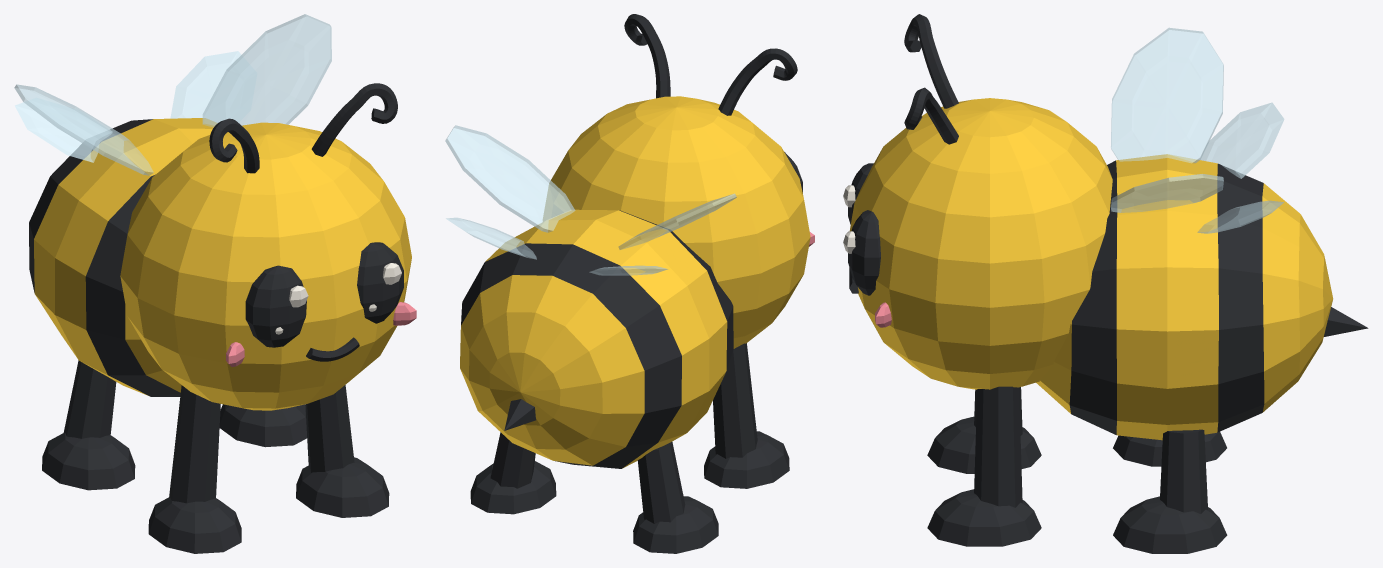
The model's file is chunky-bumblebee-pet.glb.
The picture shows the model from 3 angles, left to right: view 1: azimuth 30°, elevation 25°; view 2: azimuth 150°, elevation 25°; view 3: azimuth 270°, elevation 25°; orthographic projection. The views are drawn at different scales.
Visible parts, largest first — view 1: Head, Body, Wing_R, LegFront_L, WingBack_R, FootBack_L, FootFront_L, FootFront_R, Wing_L, Eye_L, WingBack_L, LegFront_R (+6 smaller); view 2: Body, Head, Wing_R, LegFront_L, FootBack_L, FootFront_L, LegBack_L, FootBack_R, LegBack_R, Antenna_L, Antenna_R, Wing_L (+3 smaller); view 3: Body, Head, Wing_L, LegFront_R, FootBack_R, FootFront_R, LegBack_R, WingBack_L, Wing_R, FootFront_L, Eye_R, Antenna_L (+4 smaller).
Part boxes in pixels (x1=…): Head: x1=120, y1=122, x2=411, y2=410; Body: x1=29, y1=118, x2=217, y2=396; Wing_R: x1=202, y1=14, x2=331, y2=127; LegFront_L: x1=169, y1=385, x2=220, y2=503; WingBack_R: x1=170, y1=51, x2=256, y2=122; FootBack_L: x1=42, y1=433, x2=135, y2=490; FootFront_L: x1=148, y1=497, x2=241, y2=553; FootFront_R: x1=296, y1=457, x2=389, y2=517; Wing_L: x1=14, y1=84, x2=153, y2=175; Eye_L: x1=245, y1=265, x2=306, y2=347; WingBack_L: x1=15, y1=98, x2=111, y2=162; LegFront_R: x1=305, y1=385, x2=354, y2=472; Body: x1=460, y1=209, x2=733, y2=468; Head: x1=543, y1=96, x2=810, y2=348; Wing_R: x1=445, y1=125, x2=575, y2=232; LegFront_L: x1=713, y1=343, x2=757, y2=458; FootBack_L: x1=633, y1=496, x2=718, y2=553; FootFront_L: x1=704, y1=431, x2=789, y2=488; LegBack_L: x1=637, y1=441, x2=685, y2=523; FootBack_R: x1=470, y1=461, x2=556, y2=514; LegBack_R: x1=490, y1=432, x2=535, y2=488; Antenna_L: x1=718, y1=48, x2=797, y2=115; Antenna_R: x1=624, y1=14, x2=670, y2=98; Wing_L: x1=618, y1=193, x2=736, y2=249; Body: x1=1036, y1=154, x2=1333, y2=440; Head: x1=849, y1=98, x2=1112, y2=389; Wing_L: x1=1111, y1=27, x2=1223, y2=163; LegFront_R: x1=974, y1=386, x2=1022, y2=507; FootBack_R: x1=1113, y1=496, x2=1227, y2=553; FootFront_R: x1=927, y1=489, x2=1041, y2=546; LegBack_R: x1=1160, y1=429, x2=1207, y2=513; WingBack_L: x1=1200, y1=102, x2=1284, y2=178; Wing_R: x1=1111, y1=174, x2=1223, y2=212; FootFront_L: x1=927, y1=416, x2=1041, y2=473; Eye_R: x1=848, y1=210, x2=880, y2=295; Antenna_L: x1=904, y1=14, x2=958, y2=108.
Size of the model in its own units: 1.32 by 1.77 by 1.93.
